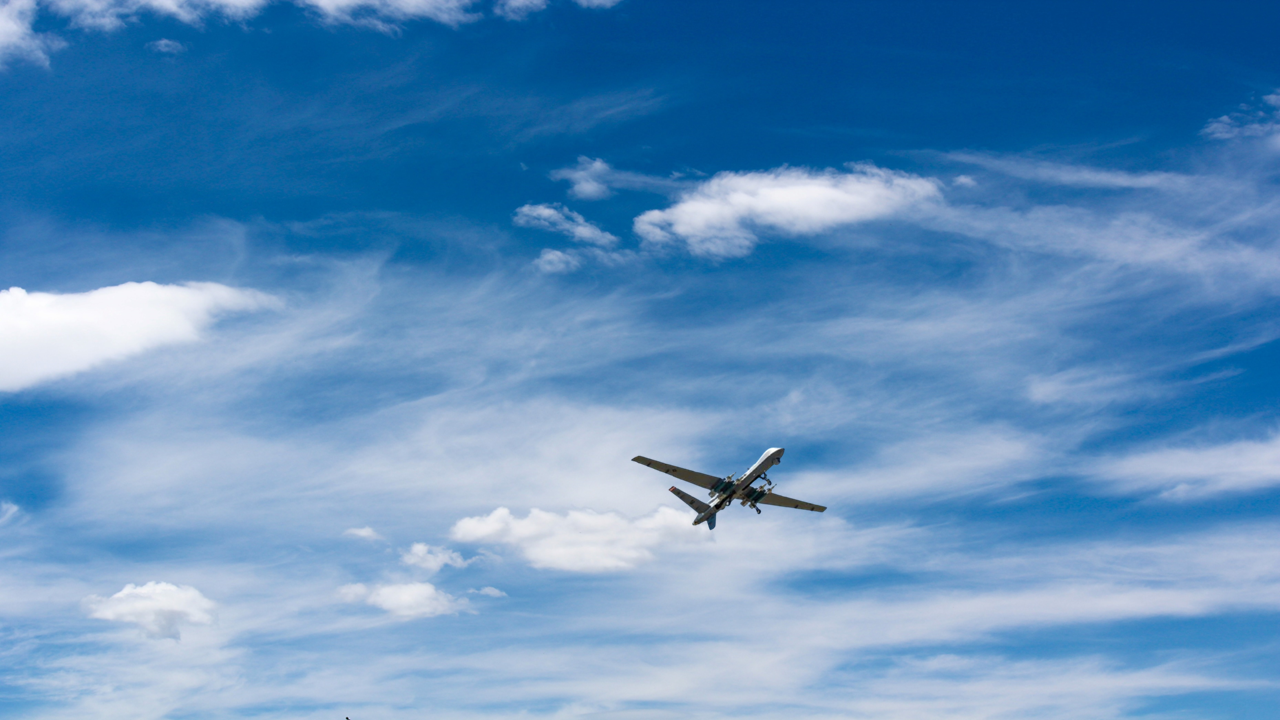military drone: (631, 447, 826, 530)
